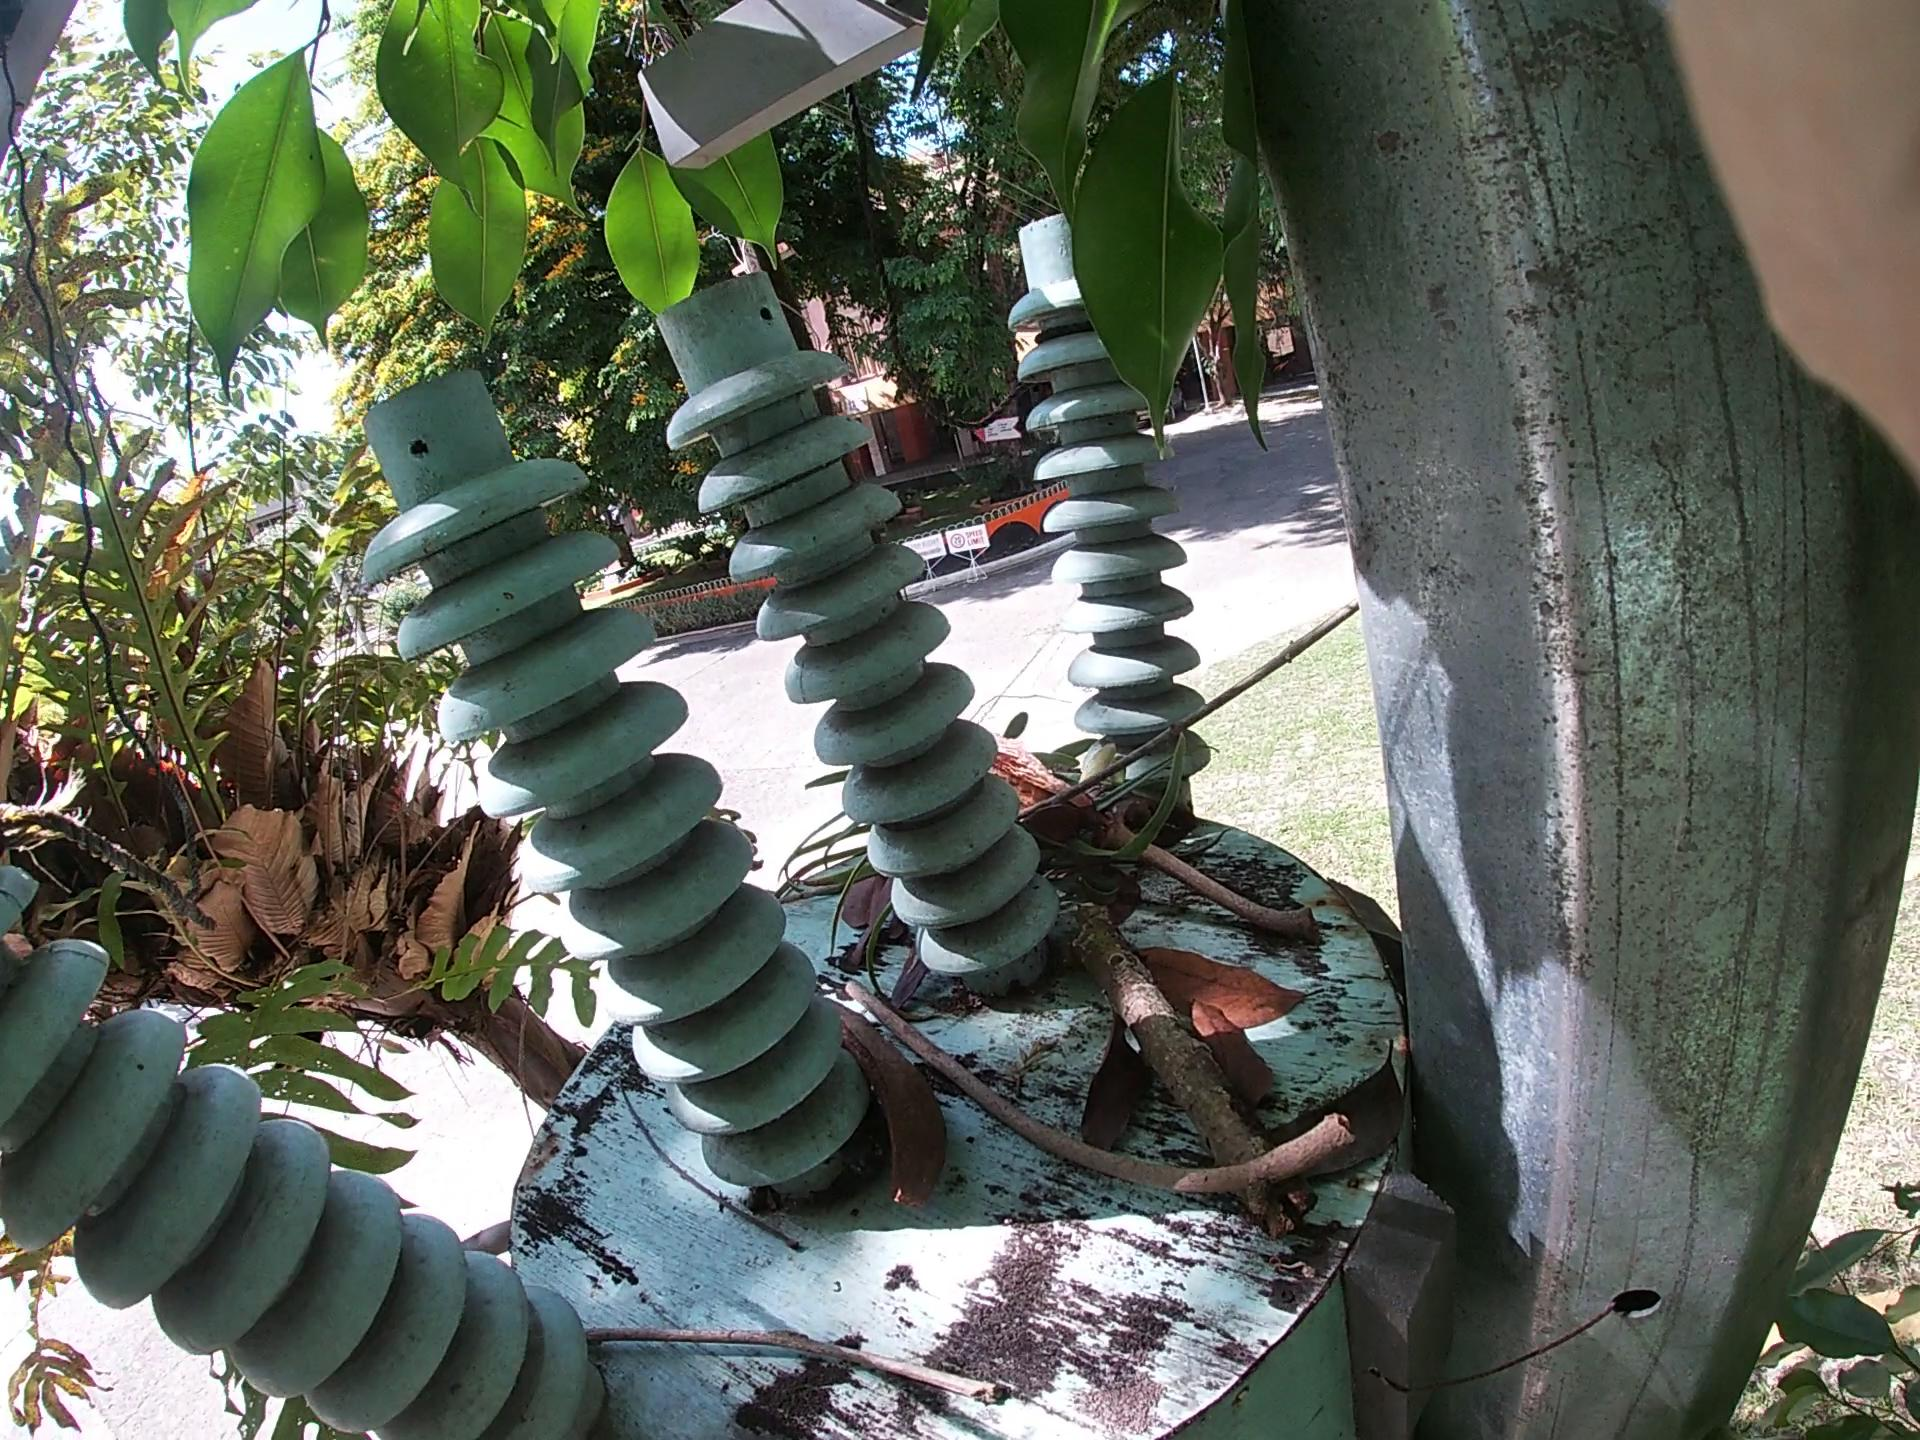branch with leaves: (940, 626, 1341, 1262)
leaf: (1092, 933, 1293, 1116)
tree branch: (857, 446, 1593, 886), (819, 954, 1463, 1327), (488, 1157, 1144, 1413), (1028, 743, 1414, 961)
